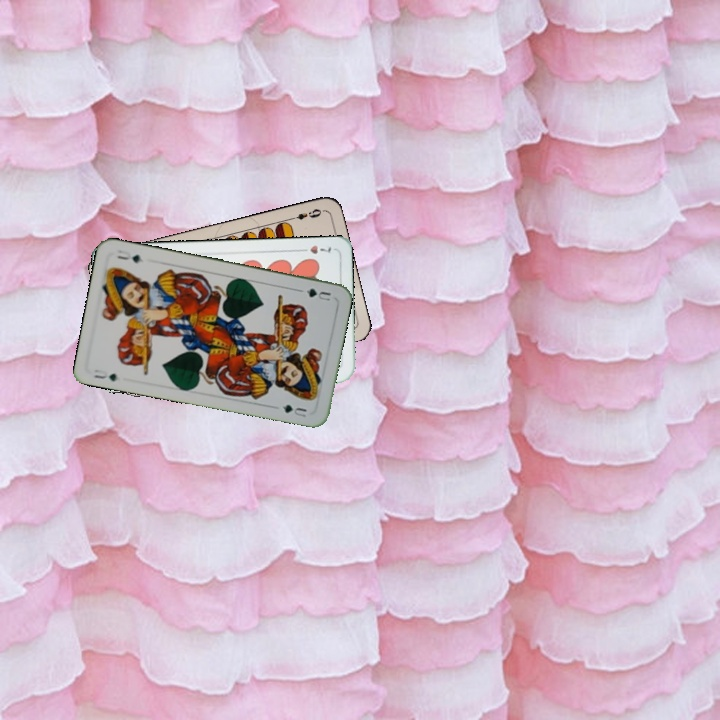E9: (285, 205, 324, 223)
GU: (88, 365, 120, 384), (302, 284, 333, 303)
H7: (295, 241, 334, 256)
